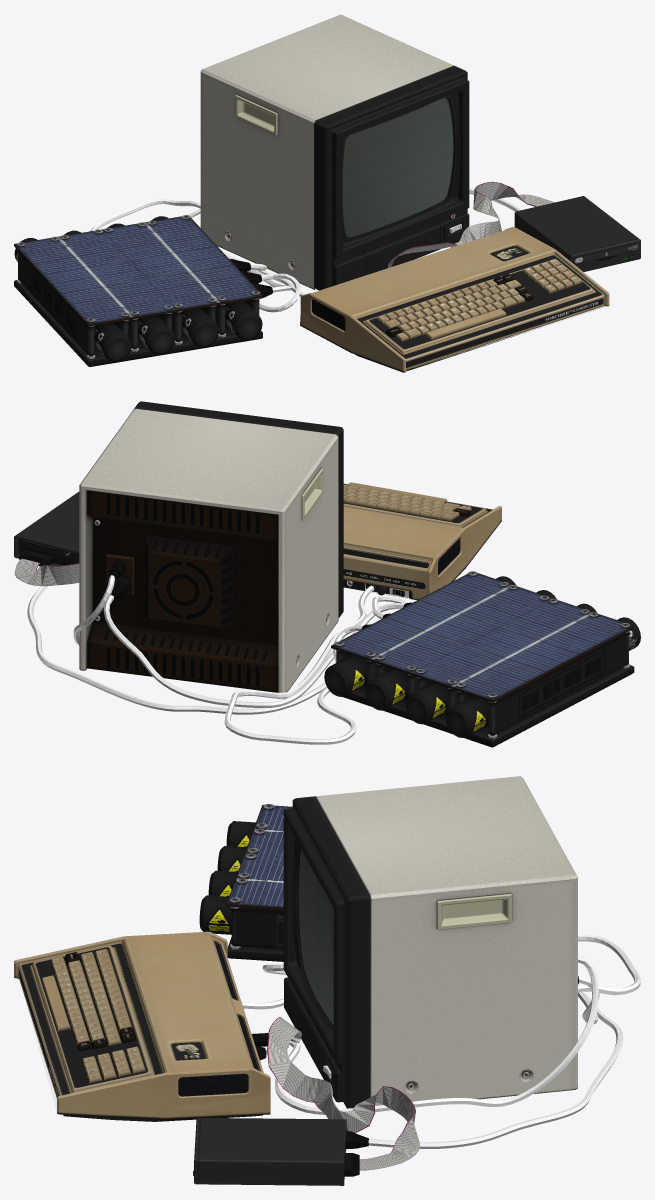
File: Scp079.glb
3 renders of one model, top to bottom at view 1: azimuth 30°, elevation 25°; view 2: azimuth 150°, elevation 25°; view 3: azimuth 270°, elevation 25°, orthographic. The views are drawn at different scales.
Parts seen in each view (by area): view 1: ROOT; view 2: ROOT; view 3: ROOT.
Part boxes in pixels (x1,y1,x2,y2): ROOT: [14, 14, 640, 372]; ROOT: [14, 401, 640, 747]; ROOT: [14, 776, 640, 1185].
Bounding box in the file's own units: 0.6374 × 0.1994 × 0.5171.
Materials: 12 (9 with a texture image).
